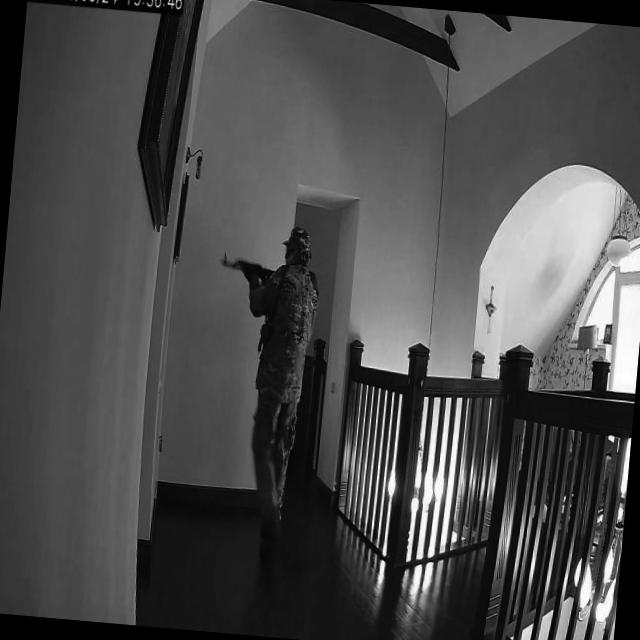gun: (216, 247, 279, 284)
person with a gun: (189, 213, 325, 580)
